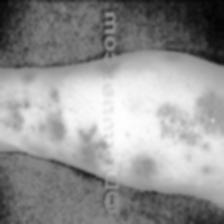Non-Cancerous Skin Condition: (123, 51, 224, 203), (0, 55, 103, 172)
